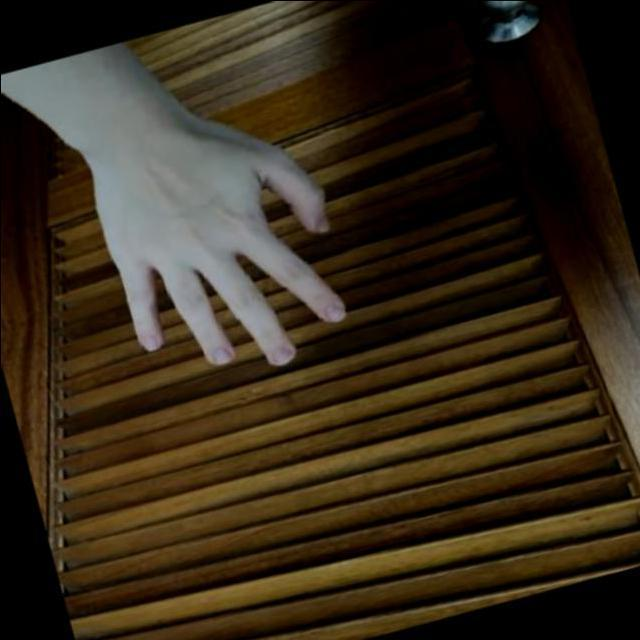hand: (65, 86, 375, 415)
